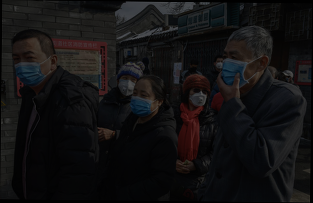with_mask: (223, 47, 258, 90), (12, 47, 49, 86), (129, 86, 156, 117), (187, 86, 208, 107), (118, 75, 138, 96), (216, 60, 225, 70), (190, 65, 199, 73)
